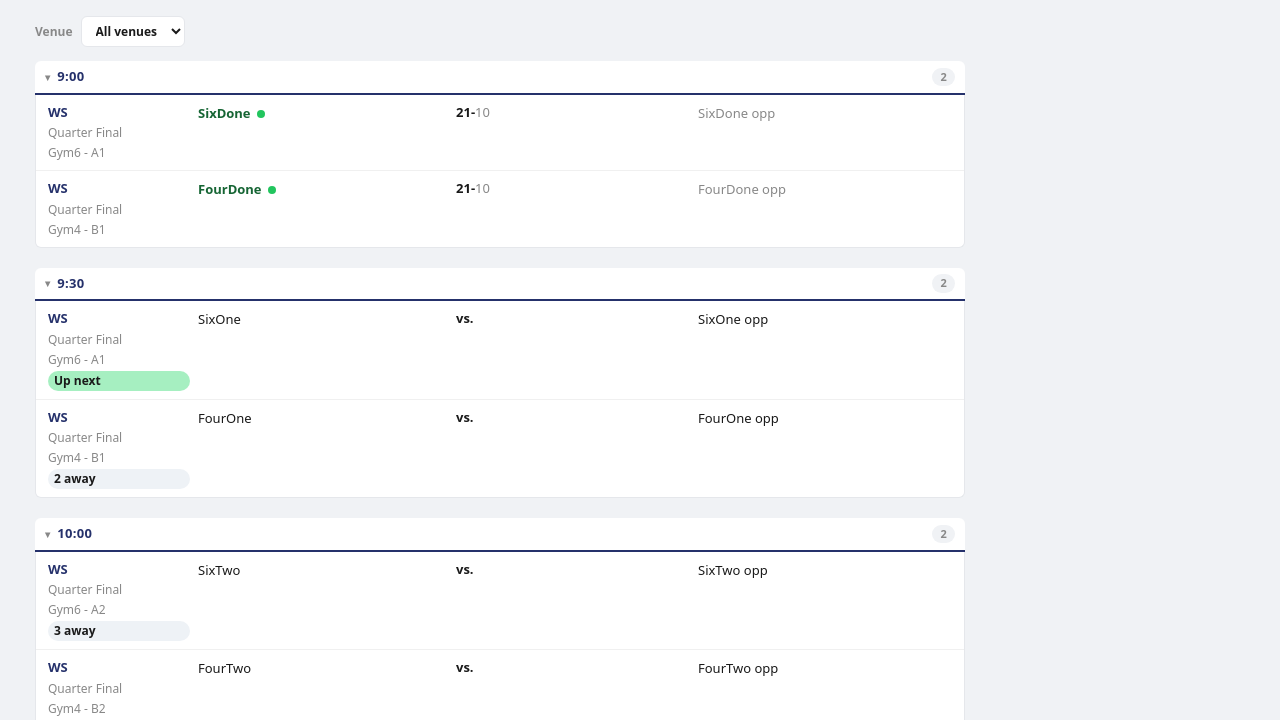
MatchSchedule — venue filter › shows only the selected venue’s matches
The width and height of the screenshot is (1280, 720).
Select "Gym4" in the dropdown labelled "Venue": coordinates (132, 32) 80,16 -> 184,47
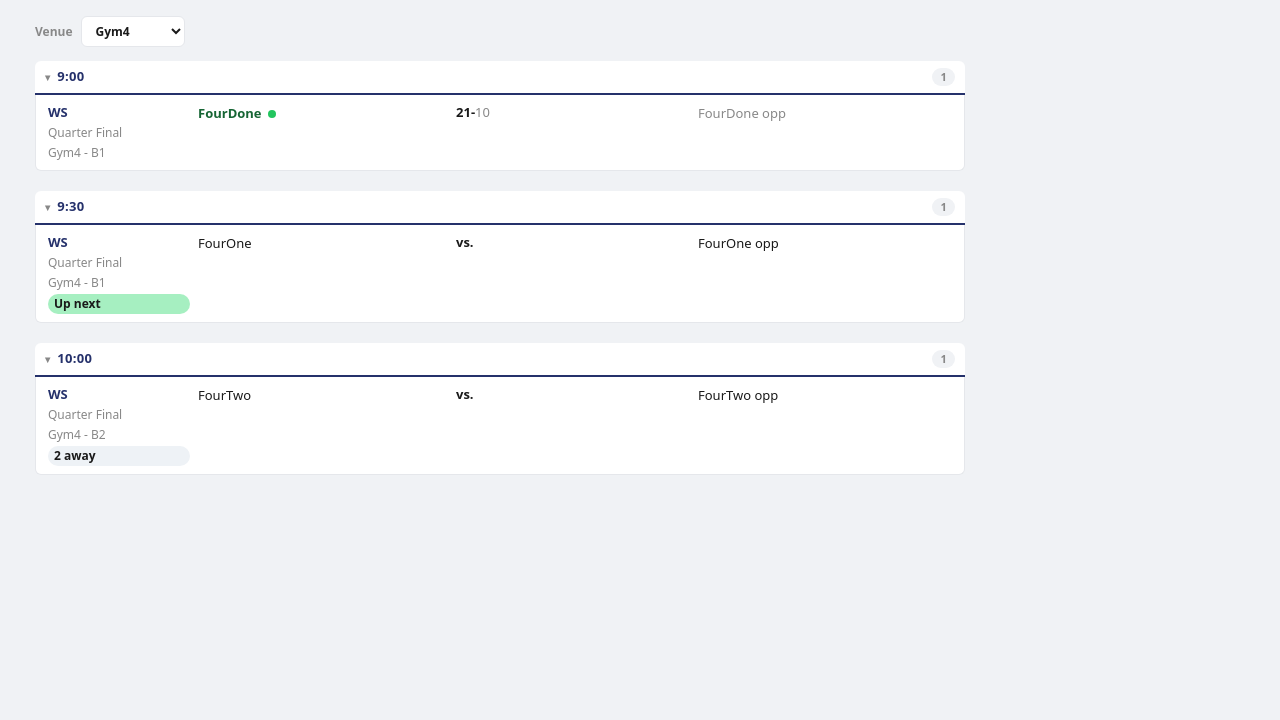
Expected: the text "FourOne" is shown, 198,234 -> 252,252
Now the text "SixOne" is gone
